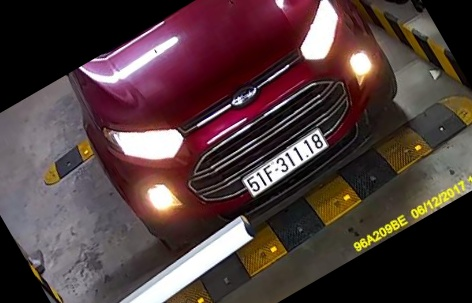plate: (230, 129, 334, 208)
